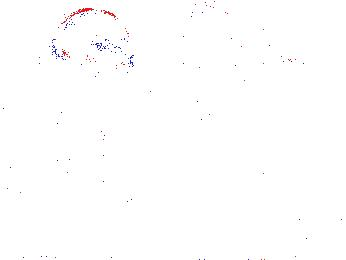moon jellyfish: (137, 6, 249, 124), (219, 1, 315, 63), (52, 8, 133, 71), (284, 3, 346, 70), (18, 9, 81, 68)
